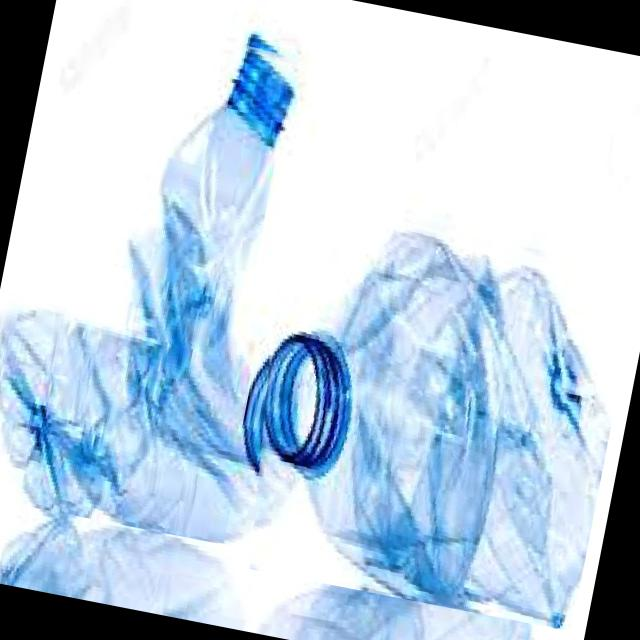plastic bottle: (213, 181, 640, 632), (0, 0, 346, 549)
